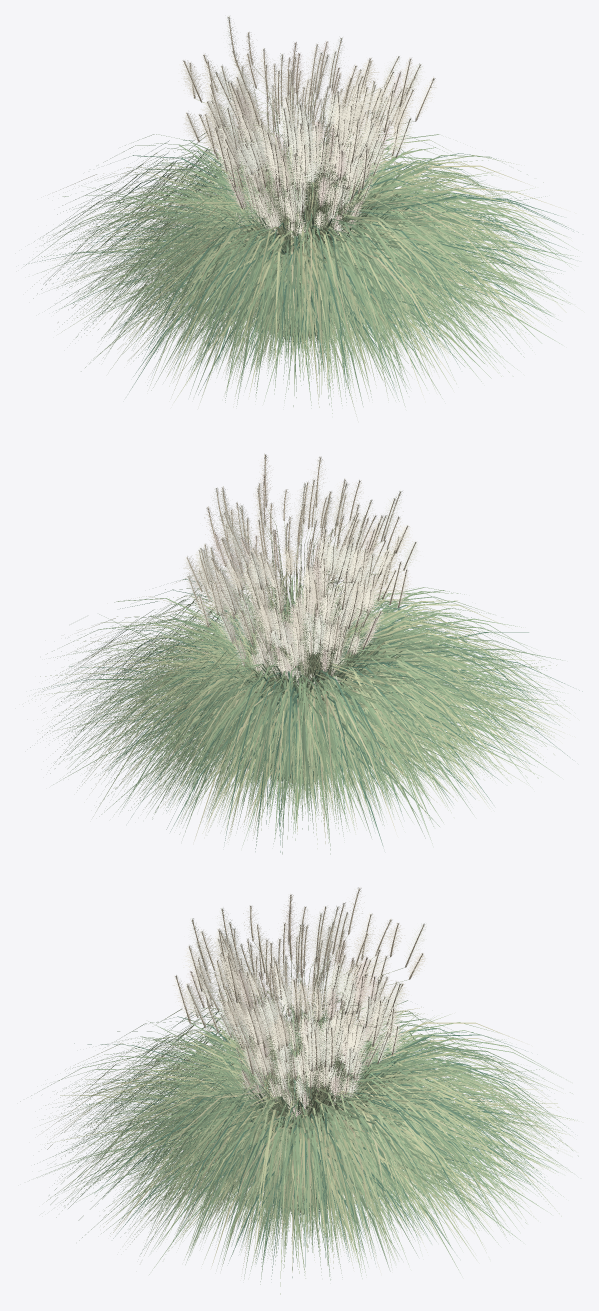
Rendered from pennisetum-hameln-forma-original.glb.
3 views of the same model, one above another, from view 1: azimuth 30°, elevation 25°; view 2: azimuth 150°, elevation 25°; view 3: azimuth 270°, elevation 25° (orthographic). The views are drawn at different scales.
Parts seen in each view (by area): view 1: PENNISETUM_MATURE-foliage-green, PENNISETUM_MATURE-foliage-sage, PENNISETUM_MATURE-foliage-deep, PENNISETUM_MATURE-plume-cream, PENNISETUM_MATURE-foliage-lime, PENNISETUM_MATURE-foliage-shadow, PENNISETUM_MATURE-plume-silver, PENNISETUM_MATURE-seed-core, PENNISETUM_MATURE-foliage-warm, PENNISETUM_MATURE-plume-beige, PENNISETUM_MATURE-culms, PENNISETUM_NATURAL-plume-cream (+13 smaller); view 2: PENNISETUM_MATURE-foliage-green, PENNISETUM_MATURE-foliage-sage, PENNISETUM_MATURE-foliage-deep, PENNISETUM_MATURE-foliage-lime, PENNISETUM_MATURE-plume-cream, PENNISETUM_MATURE-foliage-shadow, PENNISETUM_MATURE-plume-silver, PENNISETUM_MATURE-seed-core, PENNISETUM_MATURE-foliage-warm, PENNISETUM_MATURE-plume-beige, PENNISETUM_MATURE-culms, PENNISETUM_NATURAL-plume-cream (+15 smaller); view 3: PENNISETUM_MATURE-foliage-green, PENNISETUM_MATURE-foliage-sage, PENNISETUM_MATURE-foliage-deep, PENNISETUM_MATURE-foliage-lime, PENNISETUM_MATURE-plume-cream, PENNISETUM_MATURE-foliage-shadow, PENNISETUM_MATURE-plume-silver, PENNISETUM_MATURE-seed-core, PENNISETUM_MATURE-foliage-warm, PENNISETUM_MATURE-plume-beige, PENNISETUM_MATURE-culms, PENNISETUM_NATURAL-plume-cream (+15 smaller).
Boxes of the visible parts, x1,y1,x2,y2 form: PENNISETUM_MATURE-foliage-green: (25,125,578,413); PENNISETUM_MATURE-foliage-sage: (32,130,566,416); PENNISETUM_MATURE-foliage-deep: (34,131,566,406); PENNISETUM_MATURE-plume-cream: (178,43,436,190); PENNISETUM_MATURE-foliage-lime: (48,132,566,407); PENNISETUM_MATURE-foliage-shadow: (29,140,578,395); PENNISETUM_MATURE-plume-silver: (206,15,424,183); PENNISETUM_MATURE-seed-core: (183,17,433,192); PENNISETUM_MATURE-foliage-warm: (56,149,561,386); PENNISETUM_MATURE-plume-beige: (183,31,418,191); PENNISETUM_MATURE-culms: (196,67,415,337); PENNISETUM_NATURAL-plume-cream: (216,86,391,222); PENNISETUM_MATURE-foliage-green: (42,567,569,854); PENNISETUM_MATURE-foliage-sage: (35,573,570,848); PENNISETUM_MATURE-foliage-deep: (30,573,564,854); PENNISETUM_MATURE-foliage-lime: (40,573,567,833); PENNISETUM_MATURE-plume-cream: (183,456,412,639); PENNISETUM_MATURE-foliage-shadow: (42,578,582,852); PENNISETUM_MATURE-plume-silver: (186,482,420,632); PENNISETUM_MATURE-seed-core: (187,455,415,640); PENNISETUM_MATURE-foliage-warm: (78,573,530,843); PENNISETUM_MATURE-plume-beige: (204,453,399,639); PENNISETUM_MATURE-culms: (205,509,402,772); PENNISETUM_NATURAL-plume-cream: (219,528,383,673); PENNISETUM_MATURE-foliage-green: (20,998,573,1278); PENNISETUM_MATURE-foliage-sage: (40,991,577,1294); PENNISETUM_MATURE-foliage-deep: (34,992,578,1284); PENNISETUM_MATURE-foliage-lime: (47,1005,569,1268); PENNISETUM_MATURE-plume-cream: (172,887,407,1069); PENNISETUM_MATURE-foliage-shadow: (59,995,568,1279); PENNISETUM_MATURE-plume-silver: (185,906,426,1074); PENNISETUM_MATURE-seed-core: (175,888,423,1075); PENNISETUM_MATURE-foliage-warm: (47,1007,570,1276); PENNISETUM_MATURE-plume-beige: (217,893,425,1047); PENNISETUM_MATURE-culms: (191,935,408,1200); PENNISETUM_NATURAL-plume-cream: (203,961,387,1088).
Size of the model in its own units: 1.81 by 0.9979 by 1.82.
